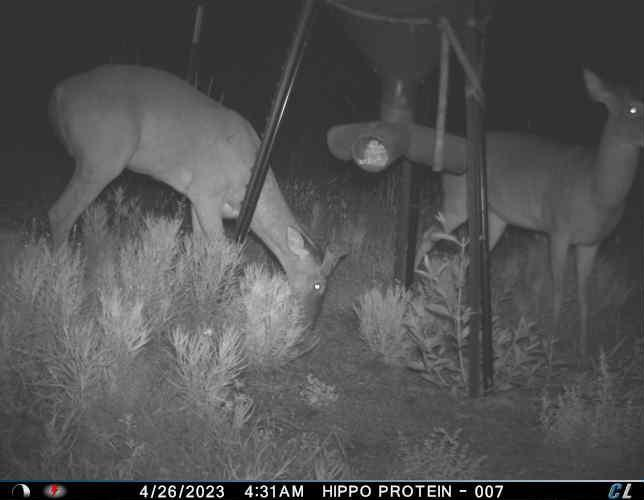Deer: (41, 59, 346, 334), (408, 64, 644, 370)
